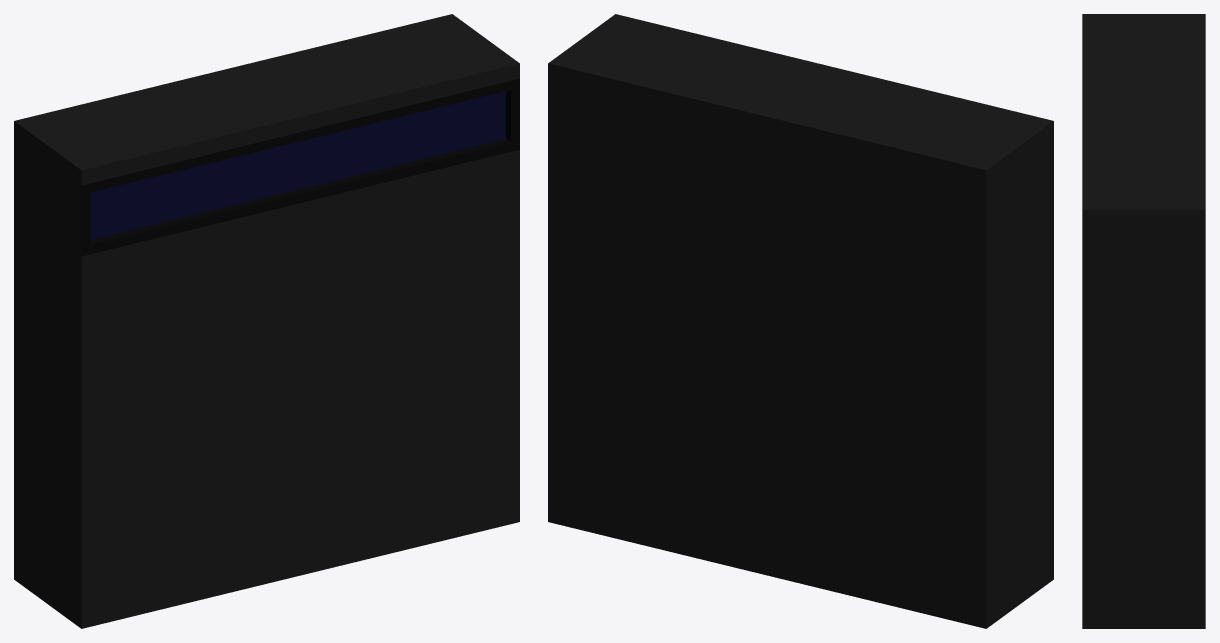
File: medical_center23.FBX
3 renders of one model, left to right at view 1: azimuth 30°, elevation 25°; view 2: azimuth 150°, elevation 25°; view 3: azimuth 270°, elevation 25°, orthographic. The views are drawn at different scales.
Visible parts, largest first — view 1: medical_center23; view 2: medical_center23; view 3: medical_center23.
Boxes of the visible parts, x1,y1,x2,y2 form: medical_center23: [14, 14, 519, 628]; medical_center23: [548, 14, 1053, 628]; medical_center23: [1082, 14, 1205, 628].
Size of the model in its own units: 3000 by 3000 by 800.
